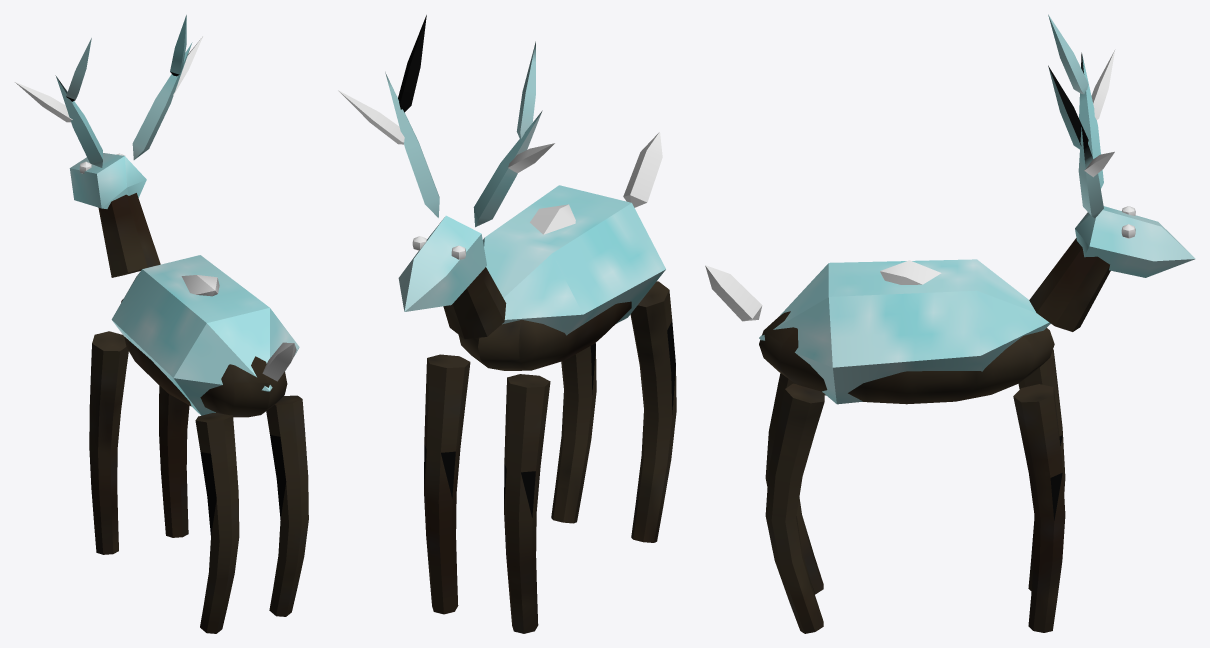
Rendered from Vortidos_CiervoCuarzo.fbx.
The picture shows the model from 3 angles, left to right: view 1: azimuth 30°, elevation 25°; view 2: azimuth 150°, elevation 25°; view 3: azimuth 270°, elevation 25°; orthographic projection. The views are drawn at different scales.
Visible parts, largest first — view 1: Body, Head, LegBL, LegL, LegBR, LegR, HeadBrillo, TailBrillo, BodyBrillo; view 2: Body, Head, LegL, LegR, LegBL, LegBR, HeadBrillo, TailBrillo, BodyBrillo; view 3: Body, Head, LegBR, LegR, LegBL, TailBrillo, LegL, HeadBrillo, BodyBrillo.
Part boxes in pixels (x1,y1,x2,y2): Body: [111, 255, 299, 417]; Head: [55, 15, 192, 277]; LegBL: [195, 413, 239, 633]; LegL: [89, 331, 128, 554]; LegBR: [266, 395, 308, 616]; LegR: [159, 386, 189, 537]; HeadBrillo: [15, 36, 203, 173]; TailBrillo: [262, 342, 296, 381]; BodyBrillo: [181, 275, 219, 296]; Body: [458, 185, 665, 370]; Head: [385, 15, 542, 338]; LegL: [504, 374, 550, 633]; LegR: [424, 354, 470, 614]; LegBL: [630, 281, 676, 542]; LegBR: [551, 343, 596, 523]; HeadBrillo: [338, 90, 554, 259]; TailBrillo: [623, 132, 662, 207]; BodyBrillo: [530, 204, 575, 234]; Body: [759, 259, 1054, 404]; Head: [1029, 14, 1195, 331]; LegBR: [765, 383, 824, 633]; LegR: [1013, 384, 1065, 632]; LegBL: [765, 373, 823, 594]; TailBrillo: [705, 265, 762, 321]; LegL: [1018, 349, 1065, 591]; HeadBrillo: [1084, 49, 1135, 238]; BodyBrillo: [880, 260, 941, 284].
Size of the model in its own units: 130 by 338 by 263.
